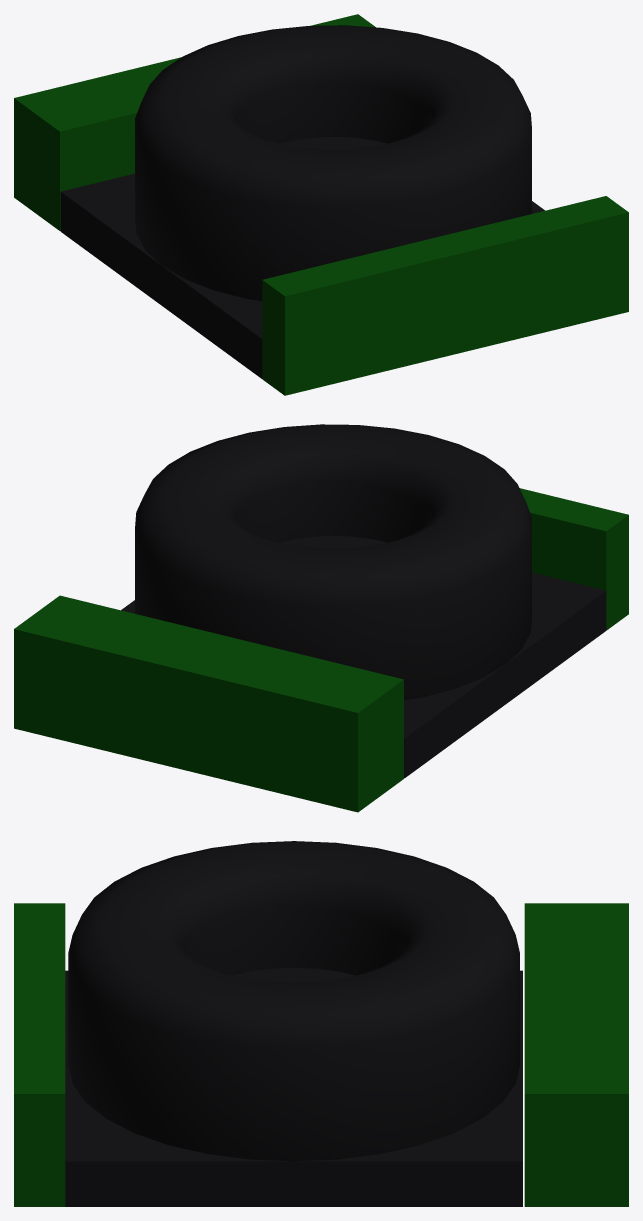
The model's file is side_right.obj.
The picture shows the model from 3 angles, top to bottom: view 1: azimuth 30°, elevation 25°; view 2: azimuth 150°, elevation 25°; view 3: azimuth 270°, elevation 25°; orthographic projection. The views are drawn at different scales.
Parts seen in each view (by area): view 1: Tires, Side_Right; view 2: Tires, Side_Right; view 3: Tires, Side_Right.
Boxes of the visible parts, x1=… form: Tires: x1=135, y1=25, x2=531, y2=301; Side_Right: x1=14, y1=14, x2=628, y2=395; Tires: x1=135, y1=424, x2=531, y2=700; Side_Right: x1=14, y1=488, x2=628, y2=812; Tires: x1=68, y1=841, x2=519, y2=1161; Side_Right: x1=14, y1=903, x2=628, y2=1206.
Bounding box in the file's own units: 0.4132 × 0.1895 × 0.5624.
